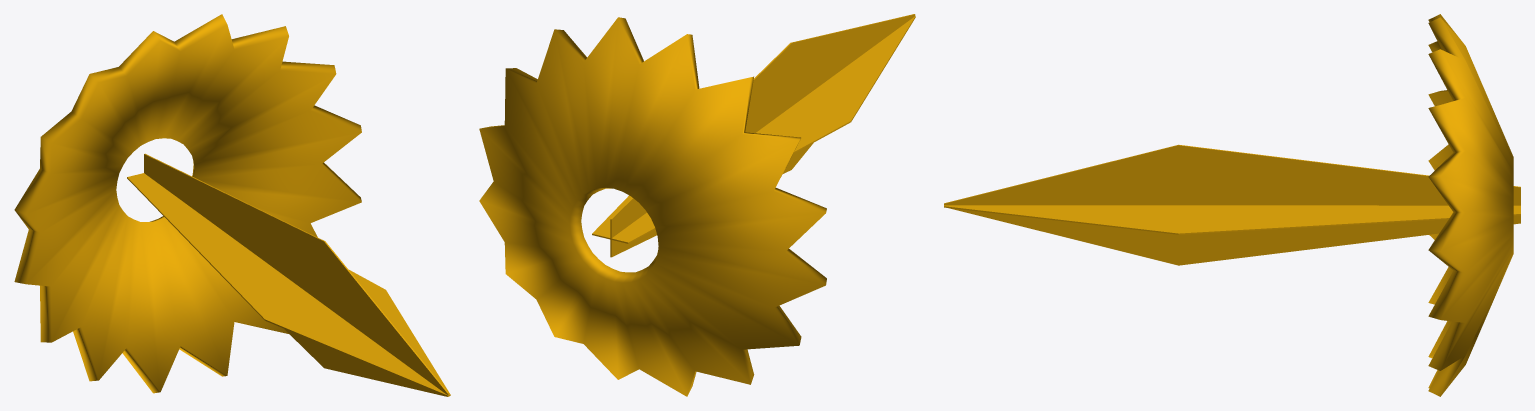
Rendered from MuzzleFlash.fbx.
The picture shows the model from 3 angles, left to right: view 1: azimuth 30°, elevation 25°; view 2: azimuth 150°, elevation 25°; view 3: azimuth 270°, elevation 25°; orthographic projection. The views are drawn at different scales.
Parts seen in each view (by area): view 1: MuzzleCone, MuzzlePlane; view 2: MuzzleCone, MuzzlePlane; view 3: MuzzlePlane, MuzzleCone.
Boxes of the visible parts, left/top/right/bottom form: MuzzleCone: left=14, top=14, right=361, bottom=393; MuzzlePlane: left=127, top=153, right=450, bottom=396; MuzzleCone: left=479, top=17, right=826, bottom=396; MuzzlePlane: left=592, top=14, right=915, bottom=257; MuzzlePlane: left=944, top=144, right=1520, bottom=265; MuzzleCone: left=1428, top=14, right=1513, bottom=396.
Size of the model in its own units: 57.53 by 57.53 by 87.34.
